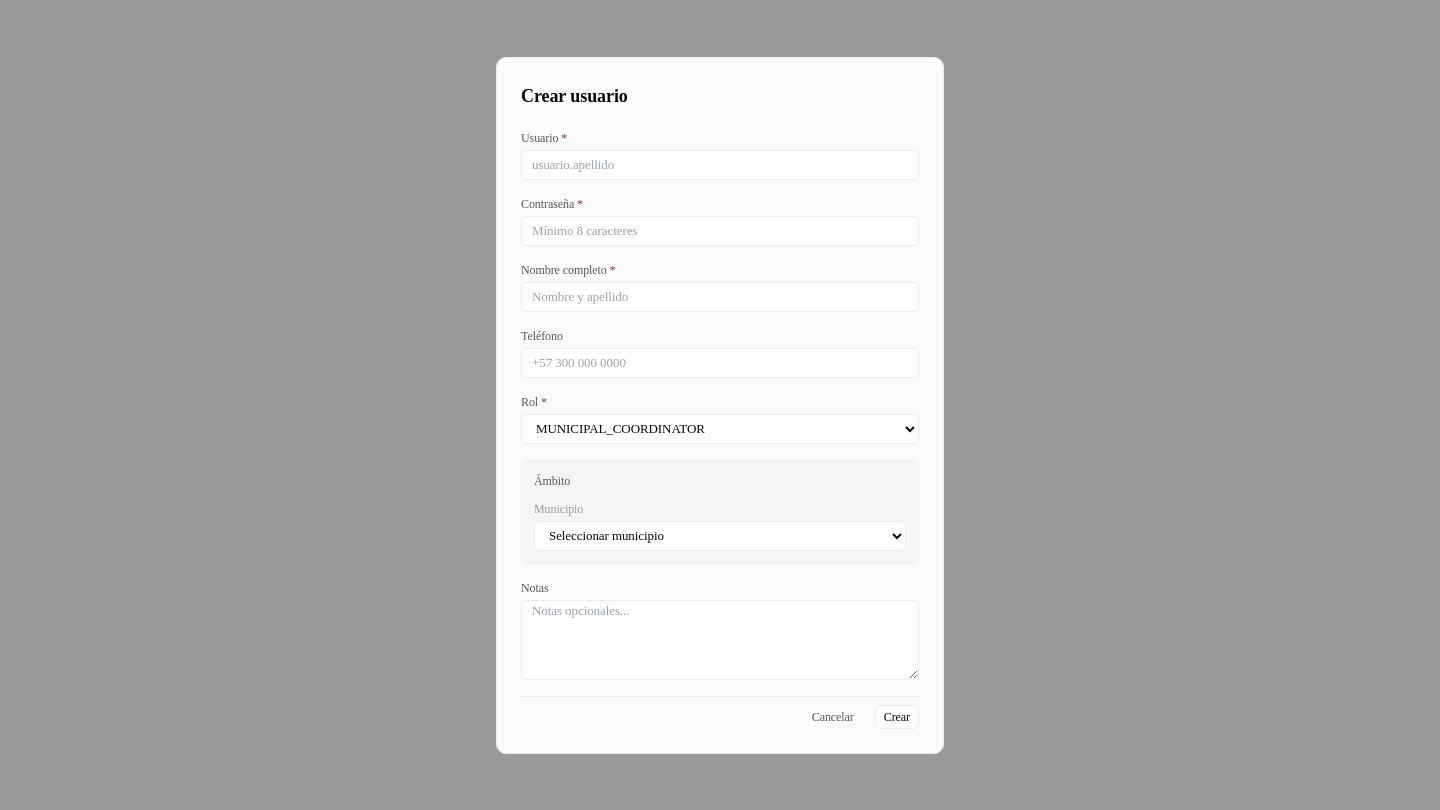
Test: CreateUserModal › filters scope items when typing in combobox
The image size is (1440, 810).
Note: Select PUESTO_COORDINATOR role
Select "PUESTO_COORDINATOR" in the dropdown labelled "Rol *" at (720, 428), box x1=521 y1=414 x2=919 y2=444
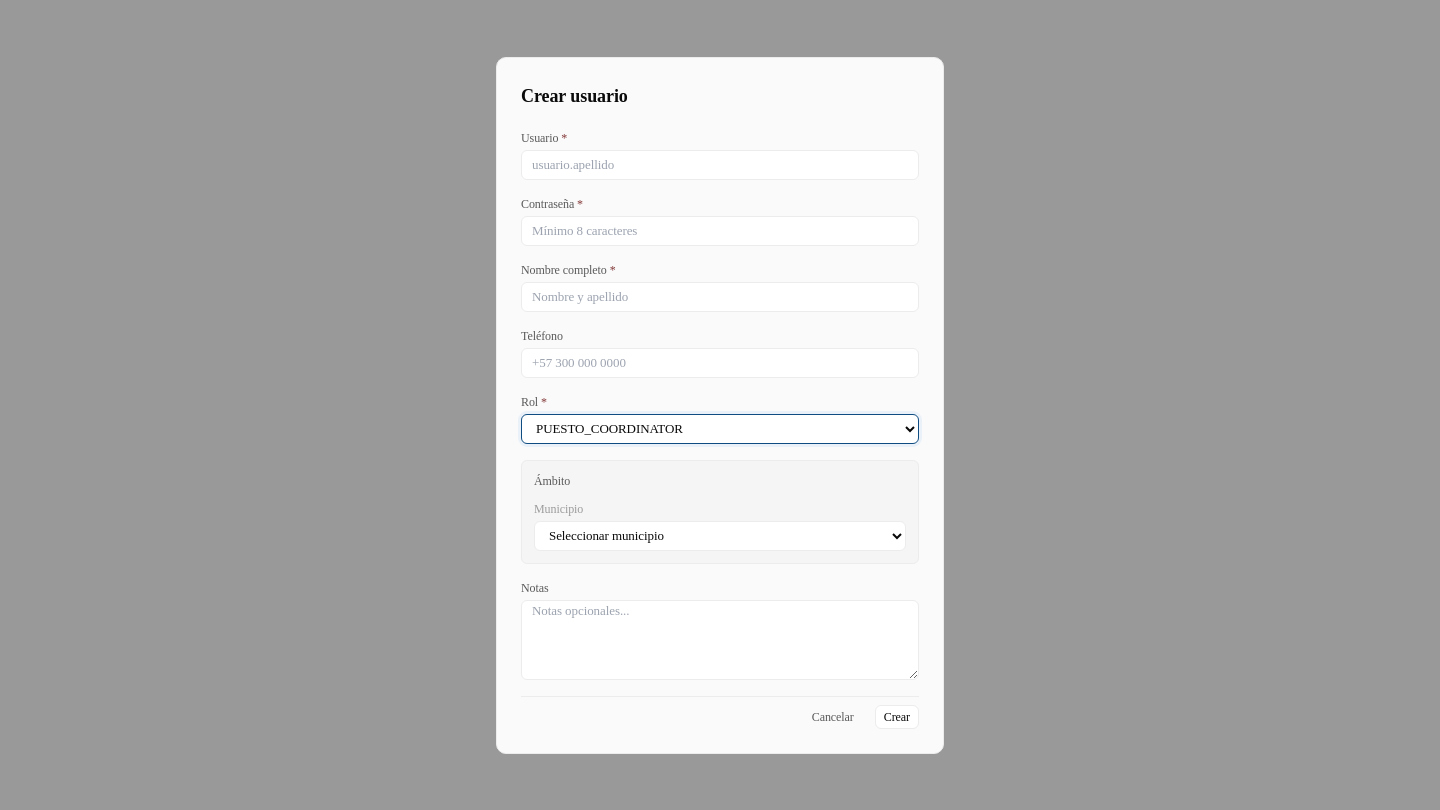
Note: Select municipio
Select "Medellín" in the dropdown labelled "Municipio" at (720, 536), box x1=534 y1=520 x2=906 y2=550
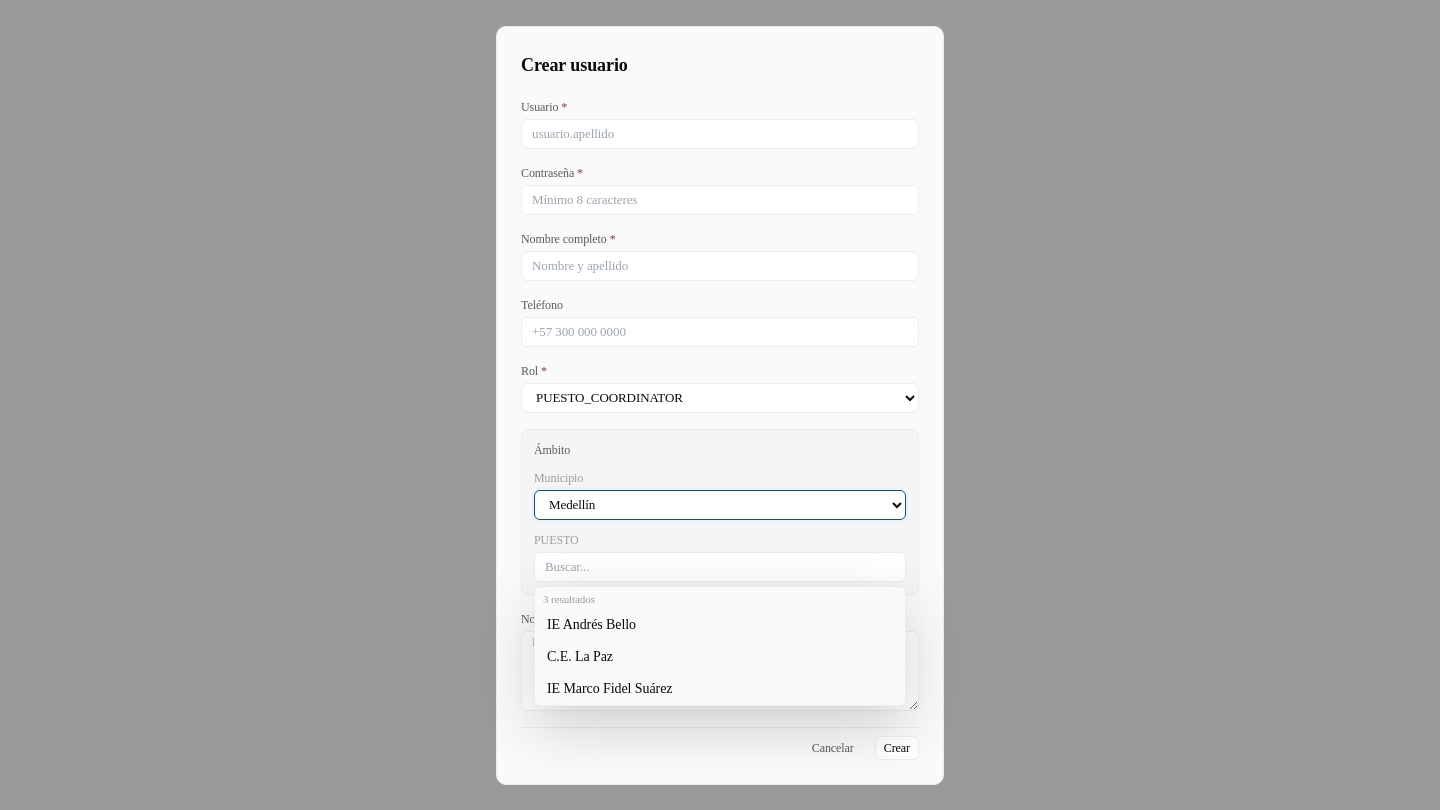
expect the field with placeholder "Buscar..." is shown: met
expect the button "IE Andrés Bello" is shown: met, box x1=535 y1=609 x2=905 y2=641
expect the button "C.E. La Paz" is shown: met, box x1=535 y1=641 x2=905 y2=673
Note: Type "Andrés" — only matching item should show
Type "Andrés" into the field with placeholder "Buscar..." at (720, 566), box x1=534 y1=552 x2=906 y2=582
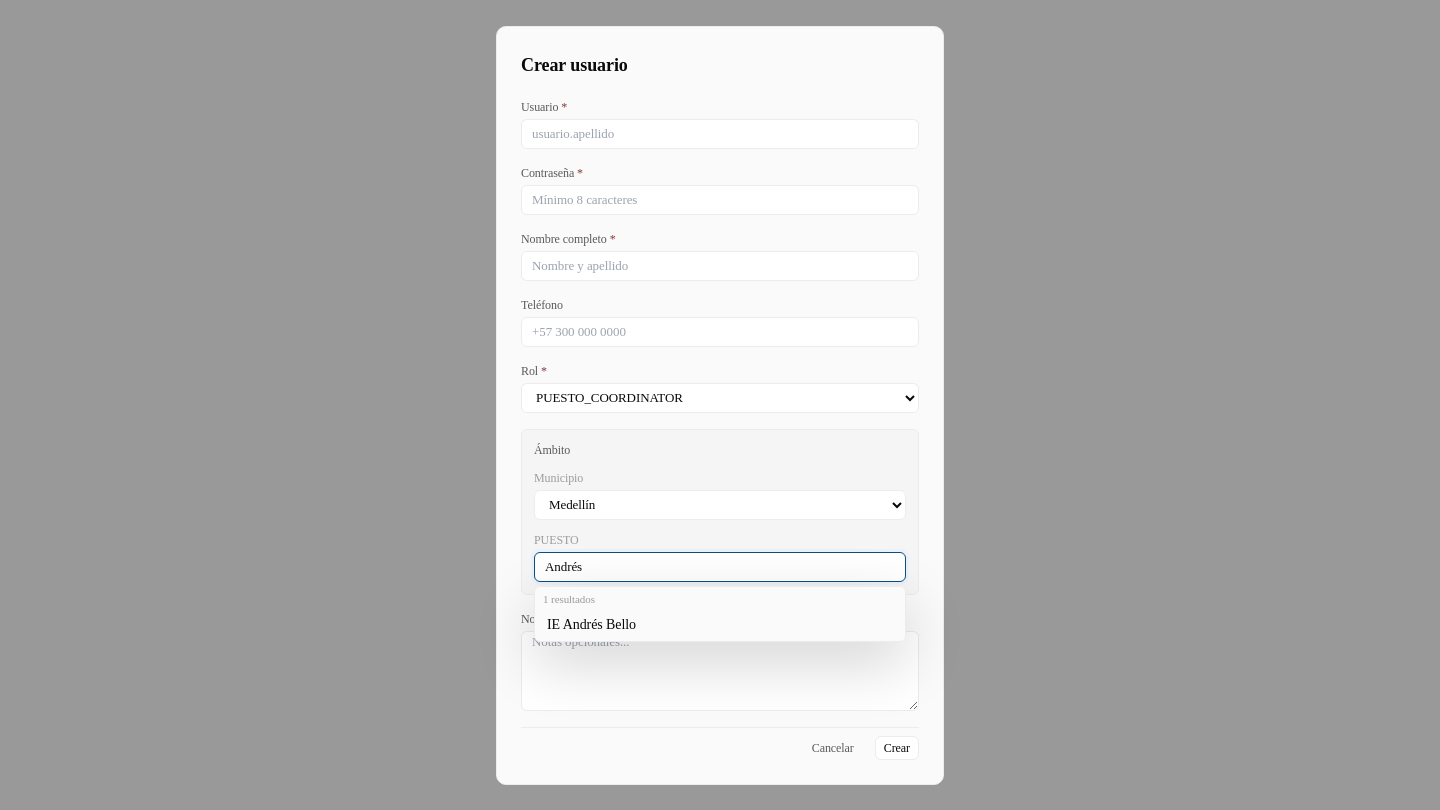
expect the button "IE Andrés Bello" is shown: met, box x1=535 y1=609 x2=905 y2=641
expect the button "C.E. La Paz" is gone: met
Note: Clear and type a term that matches nothing
Replace the text in the field with placeholder "Buscar..." with "xyzqq" at (720, 566), box x1=534 y1=552 x2=906 y2=582
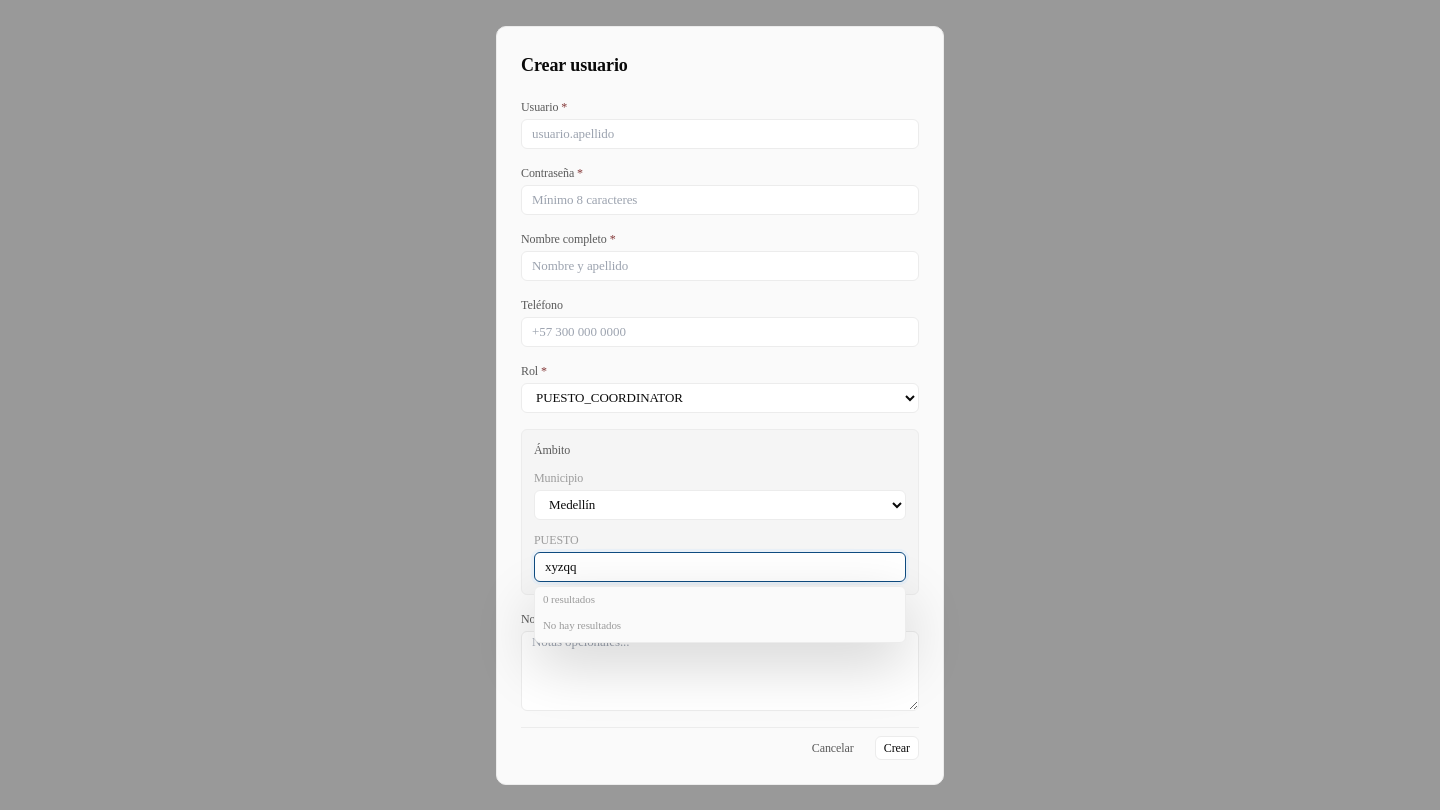
expect the text "No hay resultados" is shown: met, box x1=543 y1=619 x2=621 y2=631
